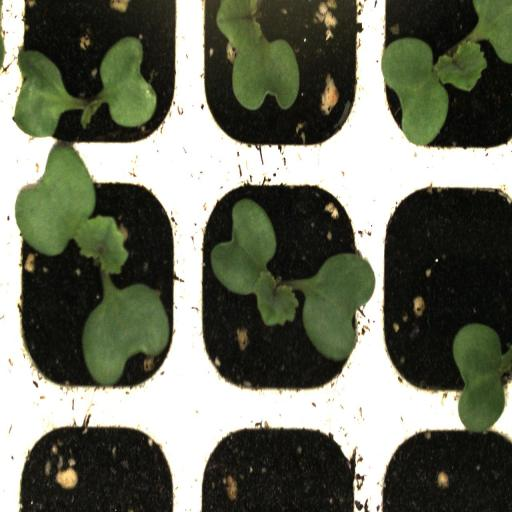seedling: (10, 164, 191, 402), (190, 169, 372, 405), (193, 0, 375, 167), (376, 0, 512, 169)
